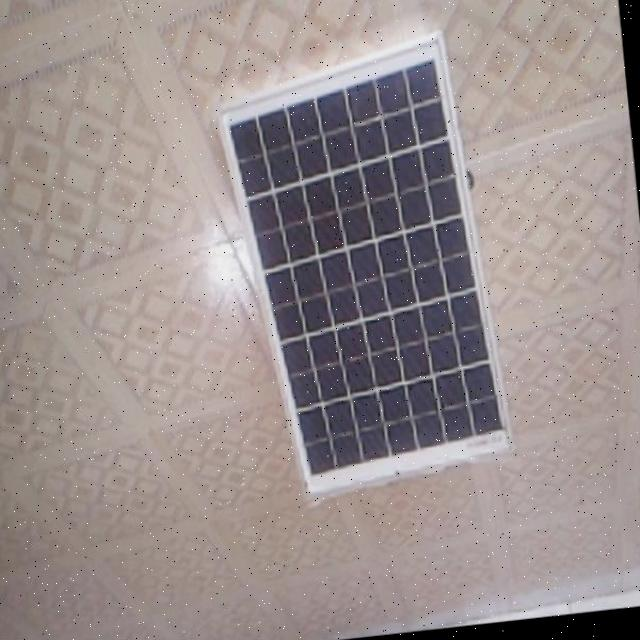Normal Solar Panel: (209, 28, 521, 510)
